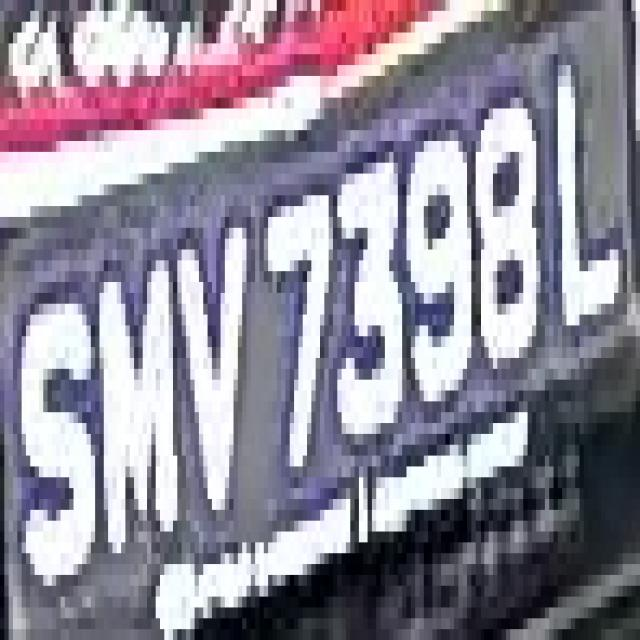3: (320, 141, 406, 488)
7: (250, 162, 328, 520)
8: (467, 65, 541, 434)
9: (406, 130, 484, 412)
L: (545, 43, 627, 369)
M: (95, 239, 173, 564)
S: (4, 271, 104, 597)
V: (178, 239, 260, 542)
